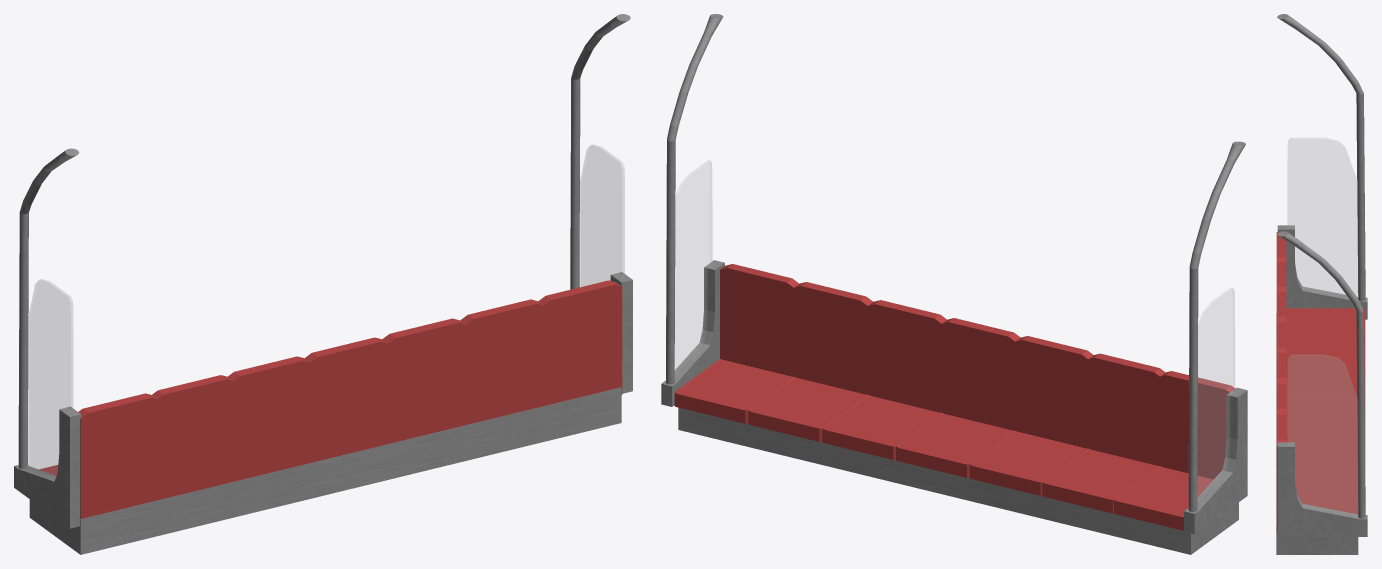
File: mrt seat.fbx
The picture shows the model from 3 angles, left to right: view 1: azimuth 30°, elevation 25°; view 2: azimuth 150°, elevation 25°; view 3: azimuth 270°, elevation 25°; orthographic projection. The views are drawn at different scales.
Visible parts, largest first — view 1: lean_pCube68; view 2: lean_pCube68; view 3: lean_pCube68.
Boxes of the visible parts, x1,y1,x2,y2 form: lean_pCube68: (14, 14, 632, 554); lean_pCube68: (661, 14, 1247, 554); lean_pCube68: (1276, 14, 1367, 554).
Bounding box in the file's own units: 5.04 × 3.43 × 0.878.
2 materials, 1 textured.
